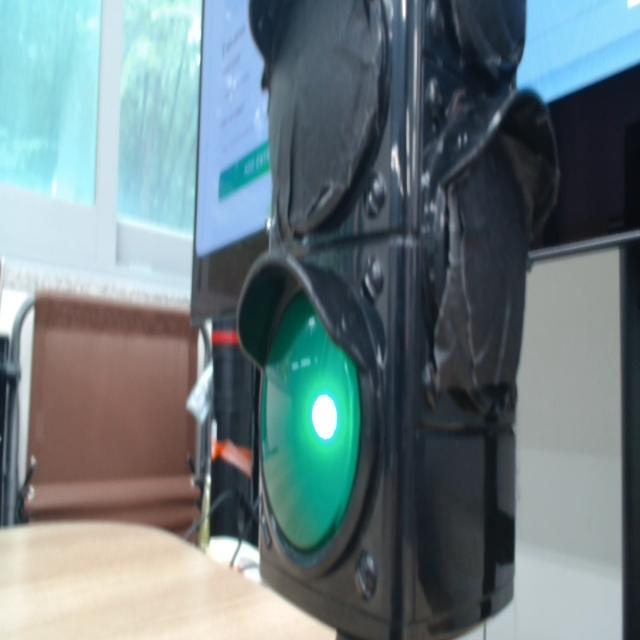green_light: (261, 295, 360, 551), (312, 395, 337, 440)
